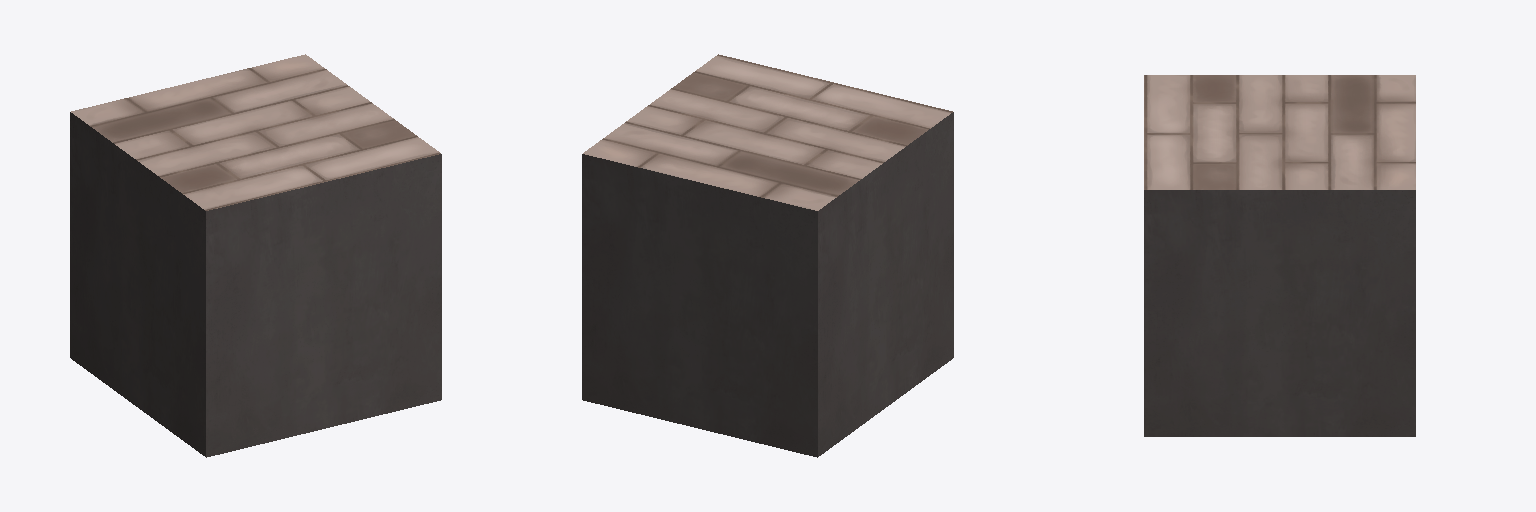
3 renders of one model, left to right at view 1: azimuth 30°, elevation 25°; view 2: azimuth 150°, elevation 25°; view 3: azimuth 270°, elevation 25°, orthographic.
Parts seen in each view (by area): view 1: Cube; view 2: Cube; view 3: Cube.
Part boxes in pixels (x1,y1,x2,y2): Cube: (70, 54, 441, 457); Cube: (582, 54, 953, 457); Cube: (1144, 75, 1415, 436).
Size of the model in its own units: 2 by 2 by 2.
Materials: 1 (1 with a texture image).